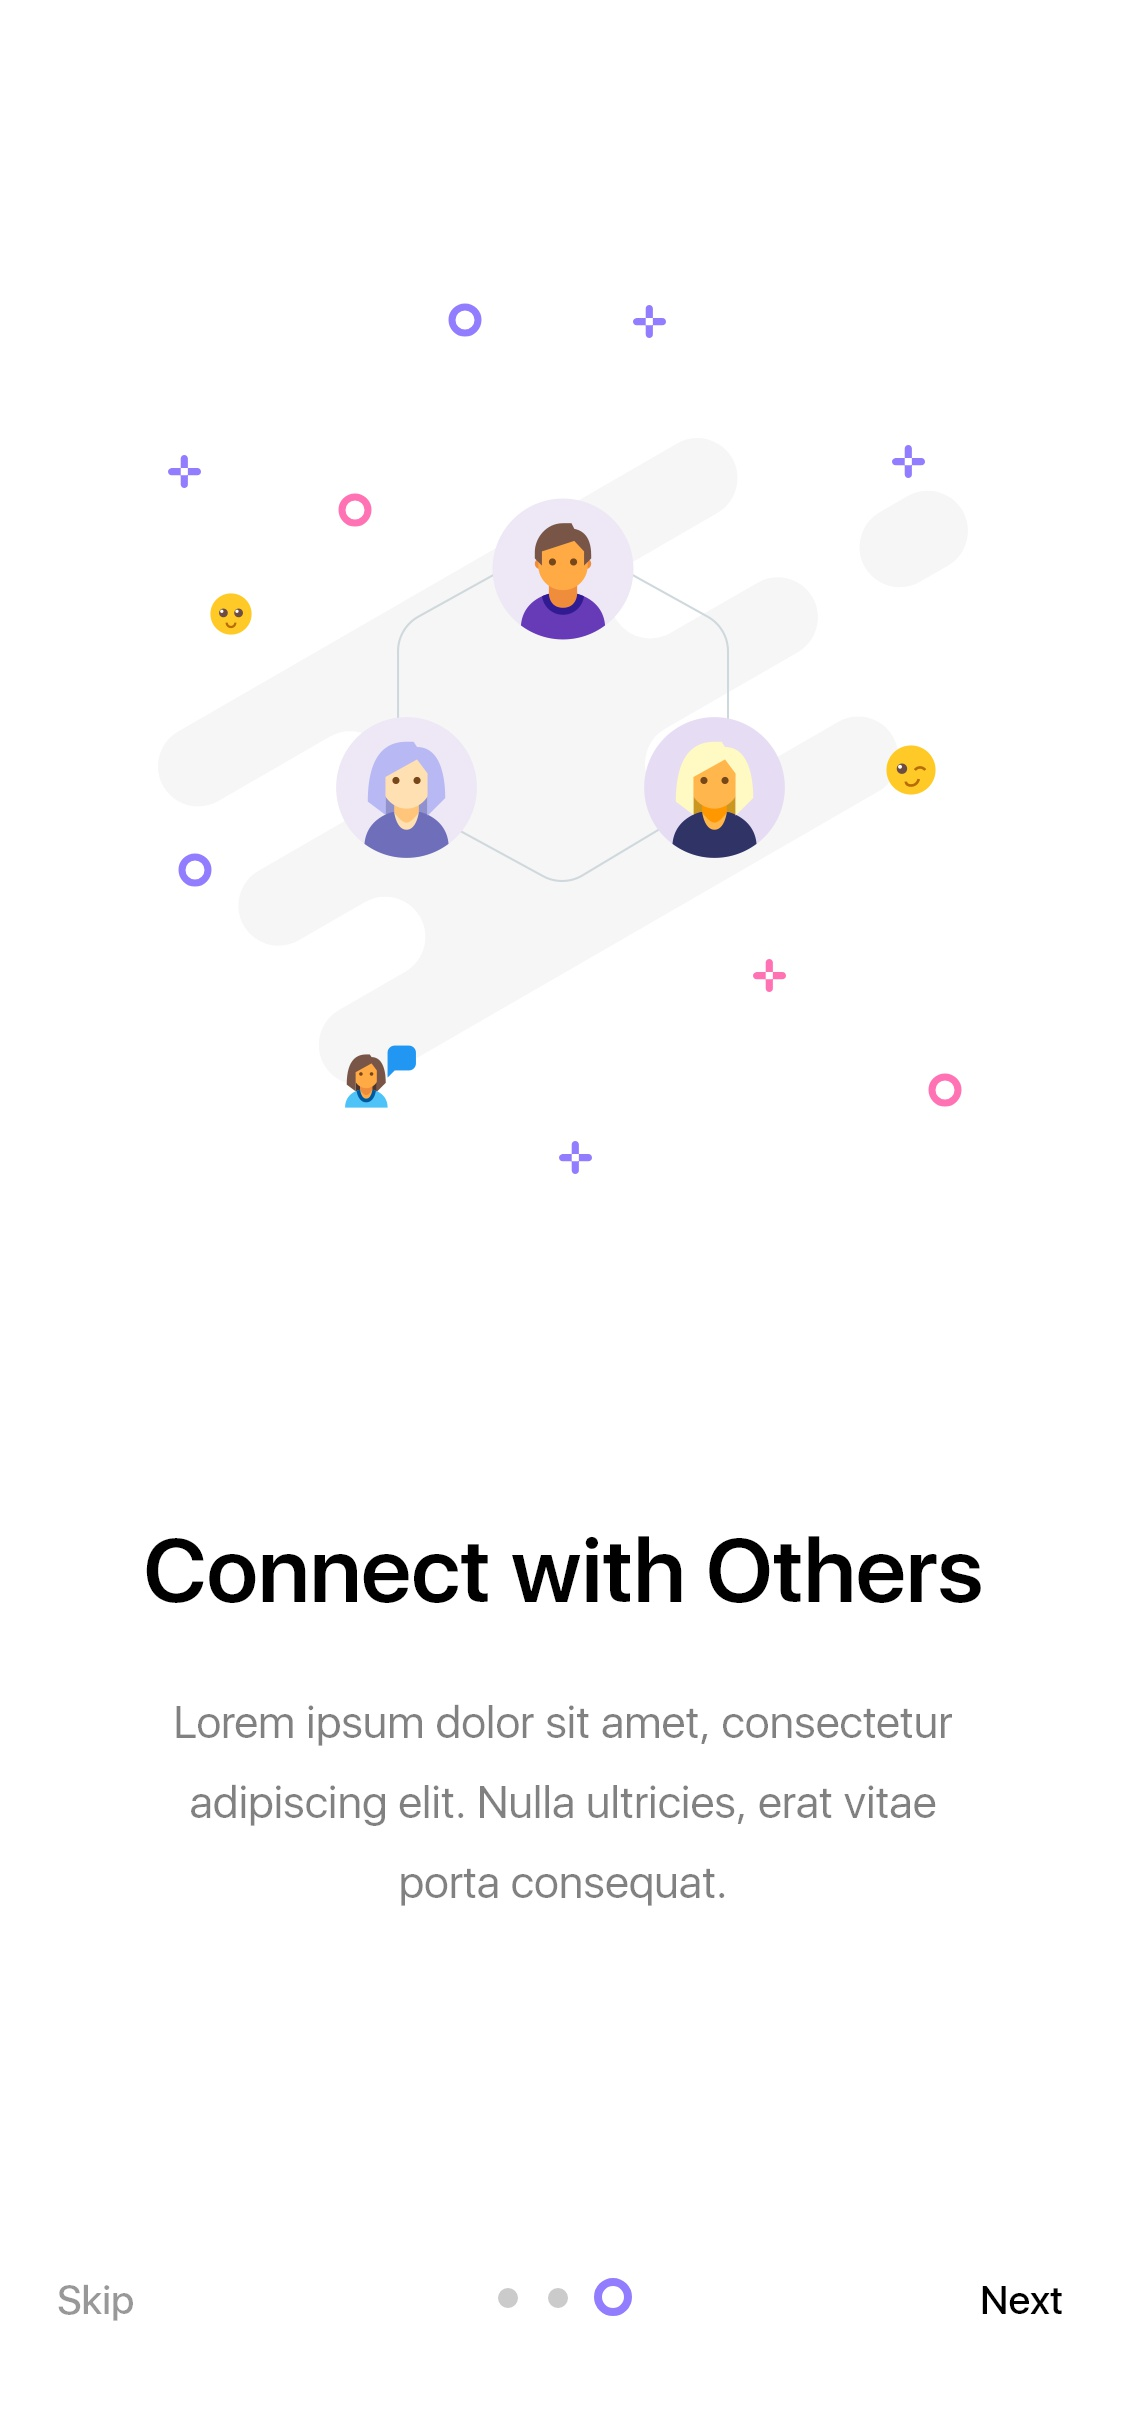Image: (157, 301, 971, 1176)
PageIndicator: (496, 2276, 634, 2318)
Text: (176, 1703, 954, 1908), (146, 1533, 982, 1605), (57, 2282, 137, 2323), (980, 2284, 1064, 2316)
